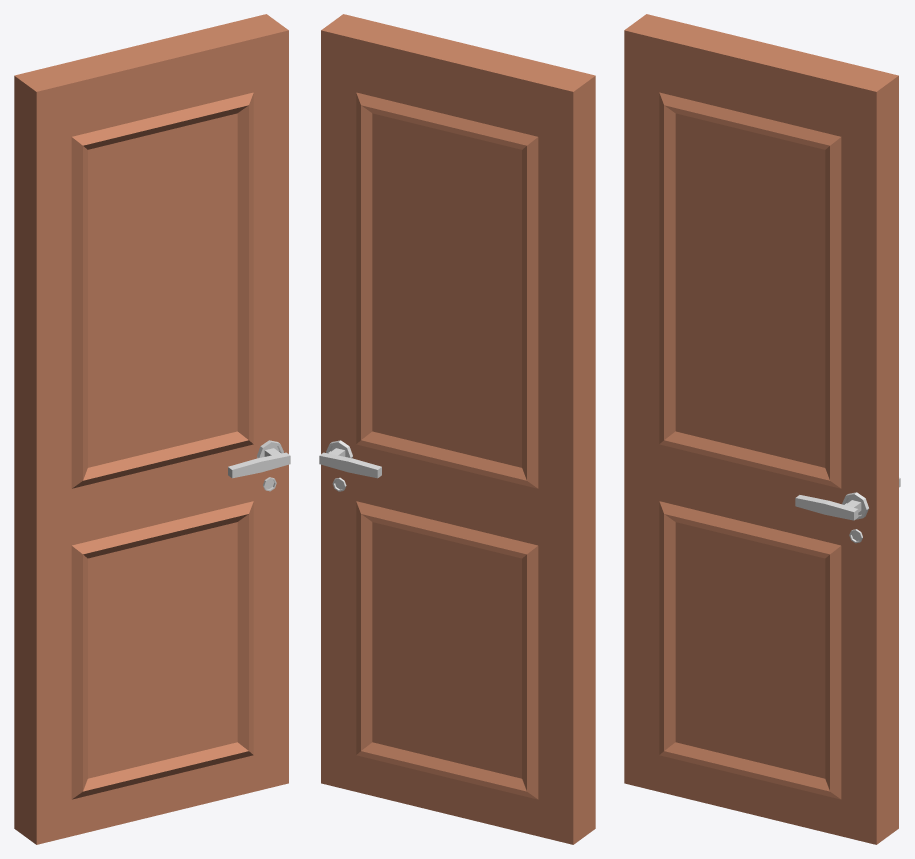
The model's file is Door.fbx.
3 renders of one model, left to right at view 1: azimuth 30°, elevation 25°; view 2: azimuth 150°, elevation 25°; view 3: azimuth 330°, elevation 25°, orthographic.
Parts seen in each view (by area): view 1: Door, Handle.002; view 2: Door, Handle.001; view 3: Door, Handle.002.
Part boxes in pixels (<box>): Door: <box>14,14,288,844</box>; Handle.002: <box>228,440,290,491</box>; Door: <box>321,14,595,844</box>; Handle.001: <box>319,440,381,491</box>; Door: <box>624,14,898,844</box>; Handle.002: <box>795,492,868,543</box>.
Bounding box in the file's own units: 1.63 × 0.523 × 4.65.
